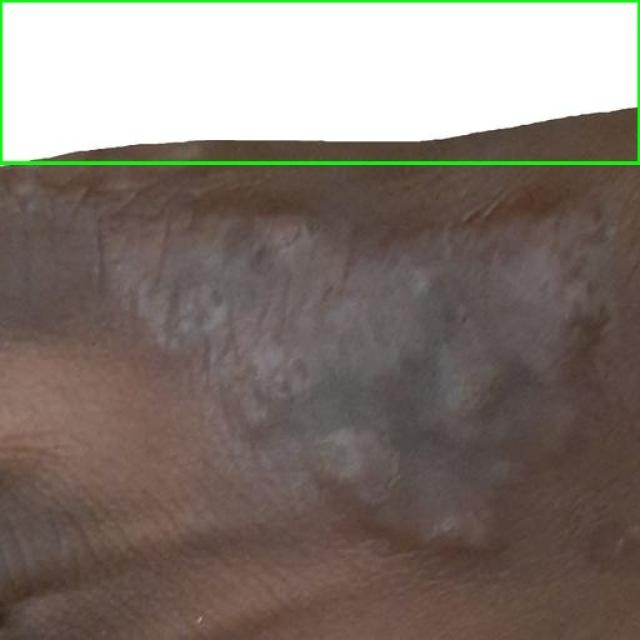Seborrheic Dermatitis: (0, 0, 639, 164)
